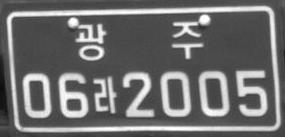0: (197, 69, 230, 117), (159, 70, 191, 117), (21, 71, 52, 118)
2: (122, 71, 154, 118)
5: (234, 69, 269, 117)
6: (57, 71, 89, 118)
광주_D: (75, 21, 204, 61)
라: (92, 76, 117, 113)
